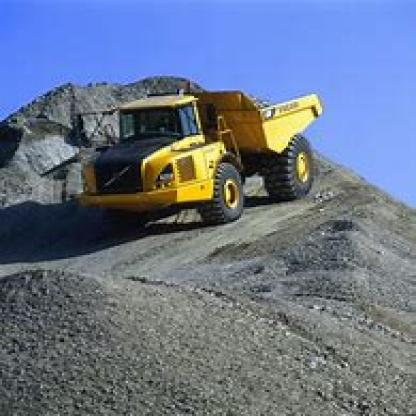dump_truck: (62, 74, 339, 222)
